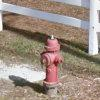Hydrant: (33, 29, 62, 97)
